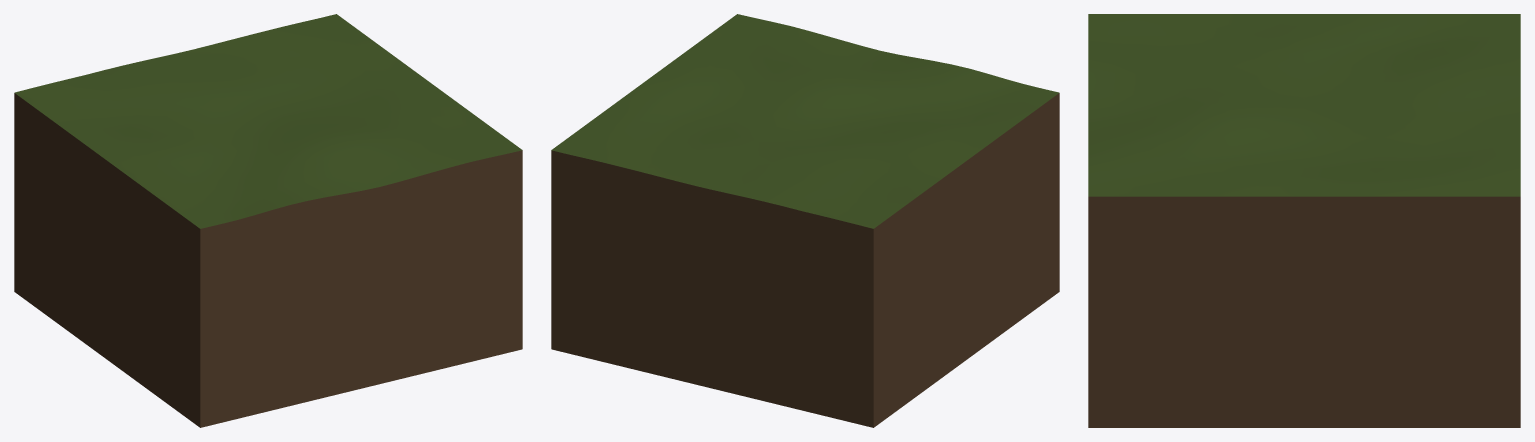
3 renders of one model, left to right at view 1: azimuth 30°, elevation 25°; view 2: azimuth 150°, elevation 25°; view 3: azimuth 270°, elevation 25°, orthographic. The views are drawn at different scales.
Parts seen in each view (by area): view 1: a1go; view 2: a1go; view 3: a1go.
Part boxes in pixels (x1,y1,x2,y2): a1go: [14, 14, 522, 427]; a1go: [551, 14, 1059, 427]; a1go: [1088, 14, 1520, 427].
Size of the model in its own units: 9 by 5.39 by 9.
